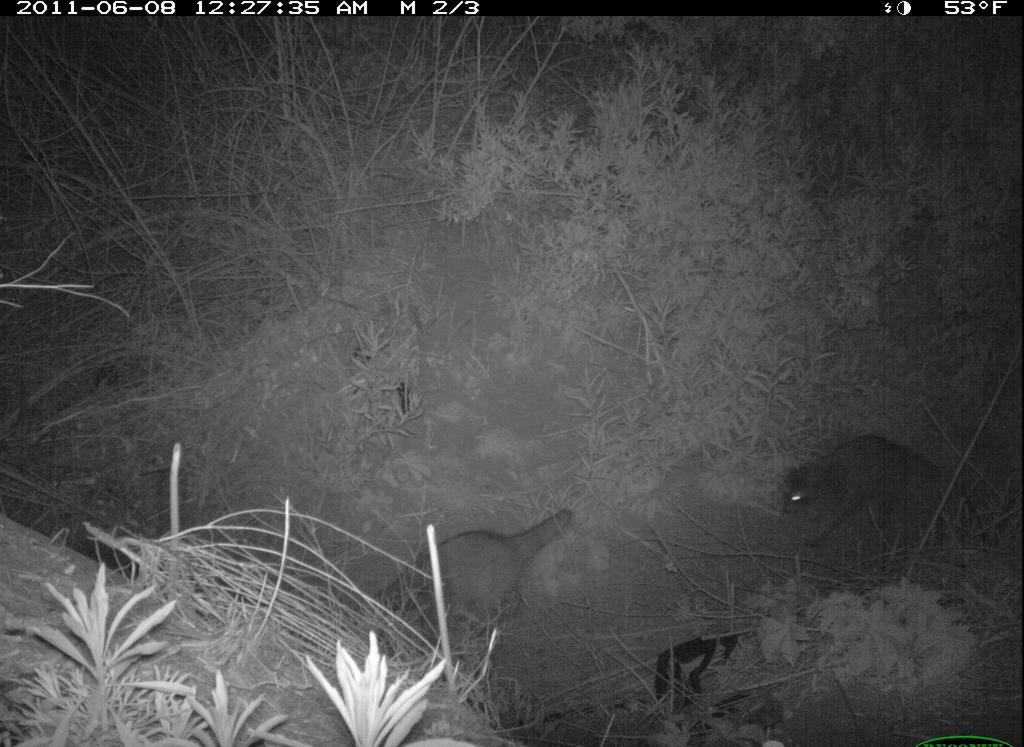raccoon: (368, 510, 574, 661), (774, 409, 941, 557)
